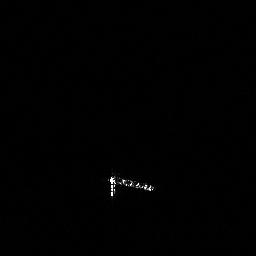ship: (105, 170, 159, 201)
